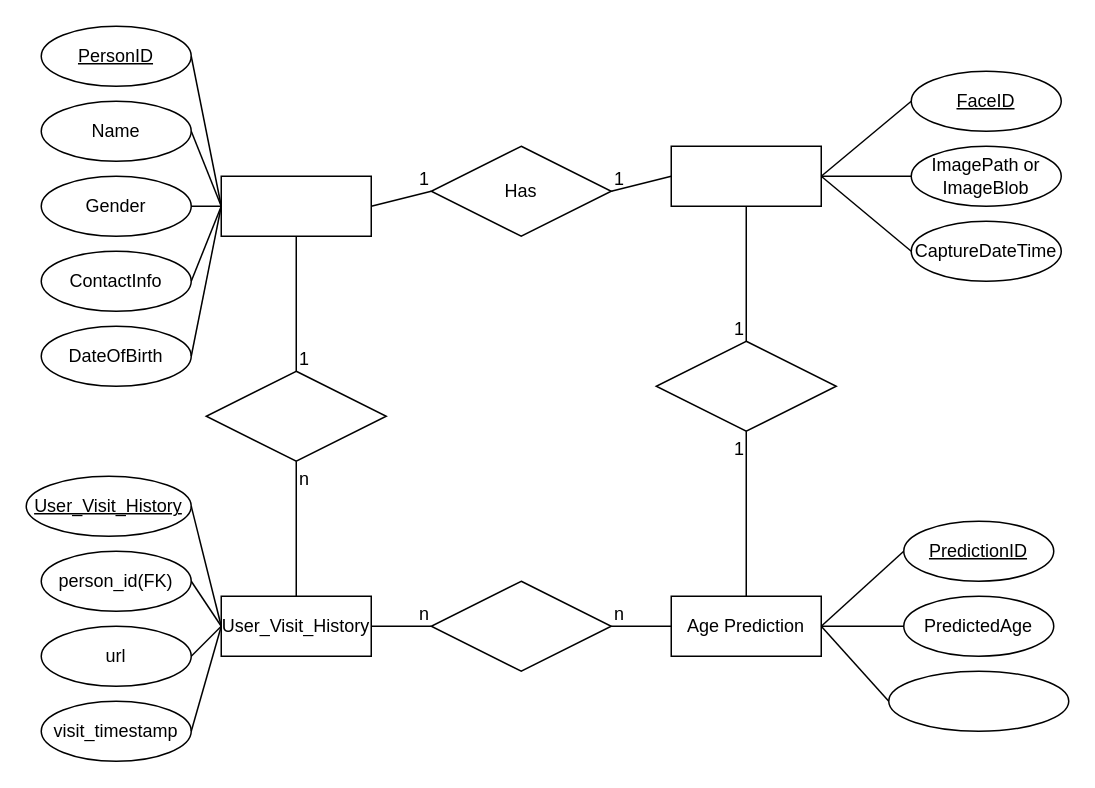
Some shapes in this 1095 by 788 pixel diagram are drawn without their labels. The shapes that lost their labels are listed below. From the top down, each one's centre as x and y in pixels, then its label:
At (x=745, y=175): "Face Data".
At (x=295, y=205): "Person".
At (x=745, y=385): "Get".
At (x=295, y=415): "visits".
At (x=520, y=625): "refines".
At (x=978, y=700): "PredictionDateTime".
